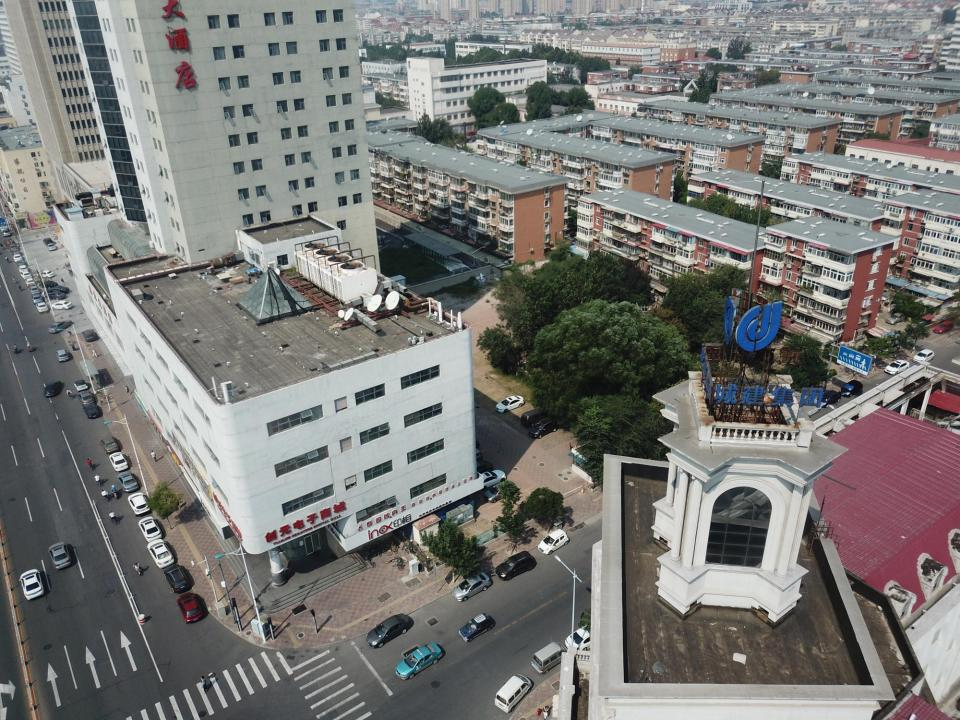car: (395, 643, 443, 679), (366, 613, 410, 648), (452, 572, 491, 602), (147, 538, 174, 569), (19, 569, 44, 600), (48, 541, 72, 570), (473, 470, 506, 490), (138, 516, 162, 543), (484, 482, 514, 502), (460, 461, 493, 476), (496, 395, 524, 412), (116, 472, 138, 492), (455, 434, 480, 450), (884, 360, 910, 375), (100, 435, 119, 454), (109, 453, 128, 472), (912, 349, 935, 364), (48, 319, 72, 333), (43, 380, 62, 397), (877, 341, 900, 354), (77, 390, 94, 407), (933, 321, 954, 334), (83, 402, 99, 418), (886, 312, 907, 324), (51, 300, 72, 310), (45, 291, 66, 300), (48, 286, 70, 293), (37, 270, 55, 278), (39, 281, 58, 288), (35, 302, 48, 312), (31, 294, 43, 304), (20, 271, 32, 280), (25, 278, 35, 286), (16, 260, 26, 267), (12, 249, 20, 256)
van: (494, 674, 532, 712), (531, 641, 568, 674), (495, 550, 535, 580), (565, 621, 602, 653), (459, 613, 493, 642), (177, 592, 203, 624), (538, 528, 568, 554), (164, 564, 189, 592), (528, 418, 558, 438), (521, 409, 549, 428), (128, 492, 150, 516), (816, 390, 840, 408), (458, 448, 482, 465), (839, 380, 863, 397), (73, 379, 88, 392), (82, 329, 96, 342), (55, 350, 69, 362), (28, 286, 40, 295), (18, 265, 28, 274), (2, 229, 12, 237), (13, 254, 22, 262), (43, 238, 53, 245), (9, 244, 18, 251), (47, 243, 56, 250)
